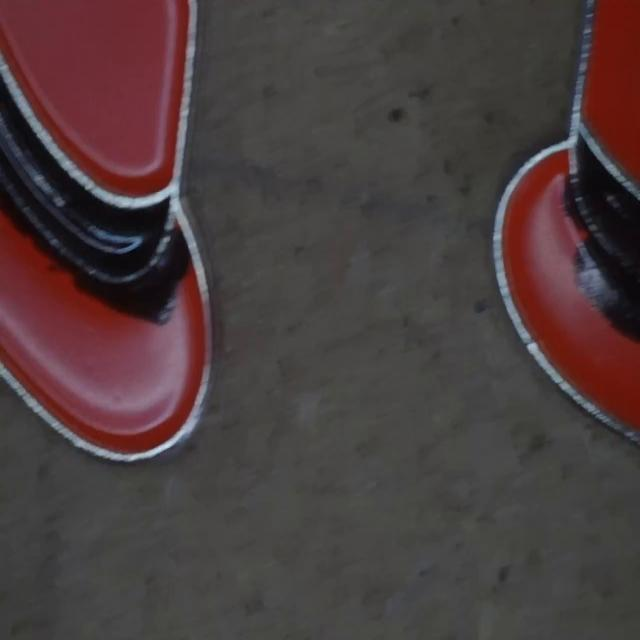Hatband: (0, 53, 174, 286), (569, 133, 640, 298)
Paint_Leak: (34, 222, 190, 320), (575, 236, 640, 339), (0, 186, 34, 230)
